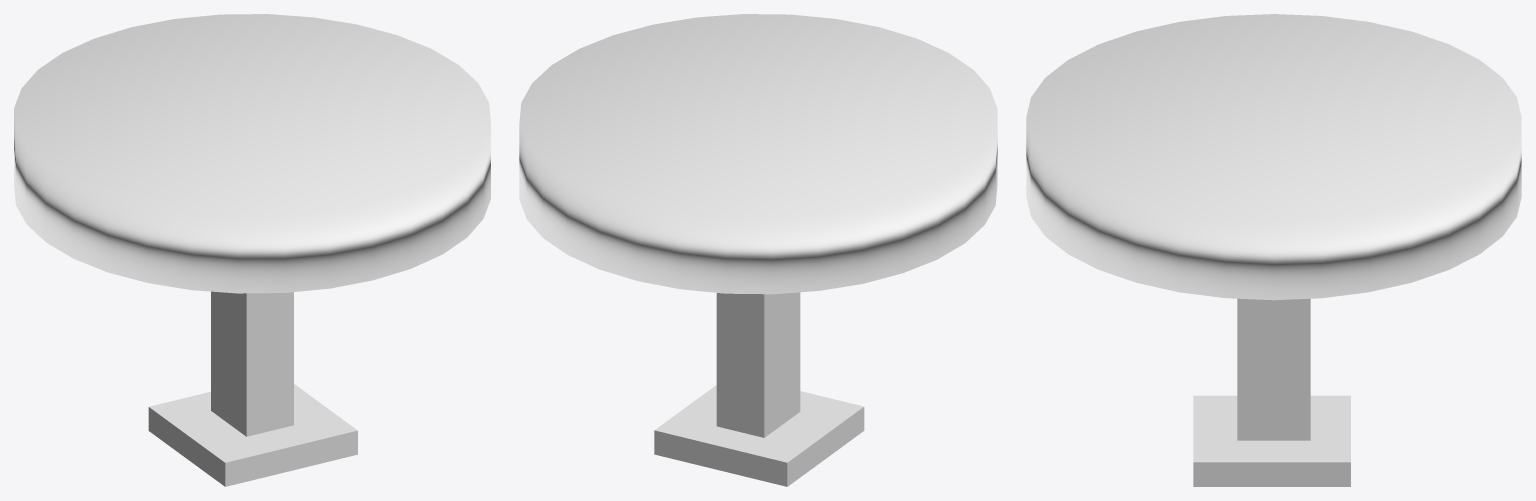
The model's file is table.fbx.
3 views of the same model, side by side, from view 1: azimuth 30°, elevation 25°; view 2: azimuth 150°, elevation 25°; view 3: azimuth 270°, elevation 25° (orthographic). The views are drawn at different scales.
Parts seen in each view (by area): view 1: 円柱; view 2: 円柱; view 3: 円柱.
Part boxes in pixels (x1,y1,x2,y2): 円柱: (14,14,490,486); 円柱: (519,14,997,486); 円柱: (1026,14,1521,486).
Bounding box in the file's own units: 580 × 439 × 586.
